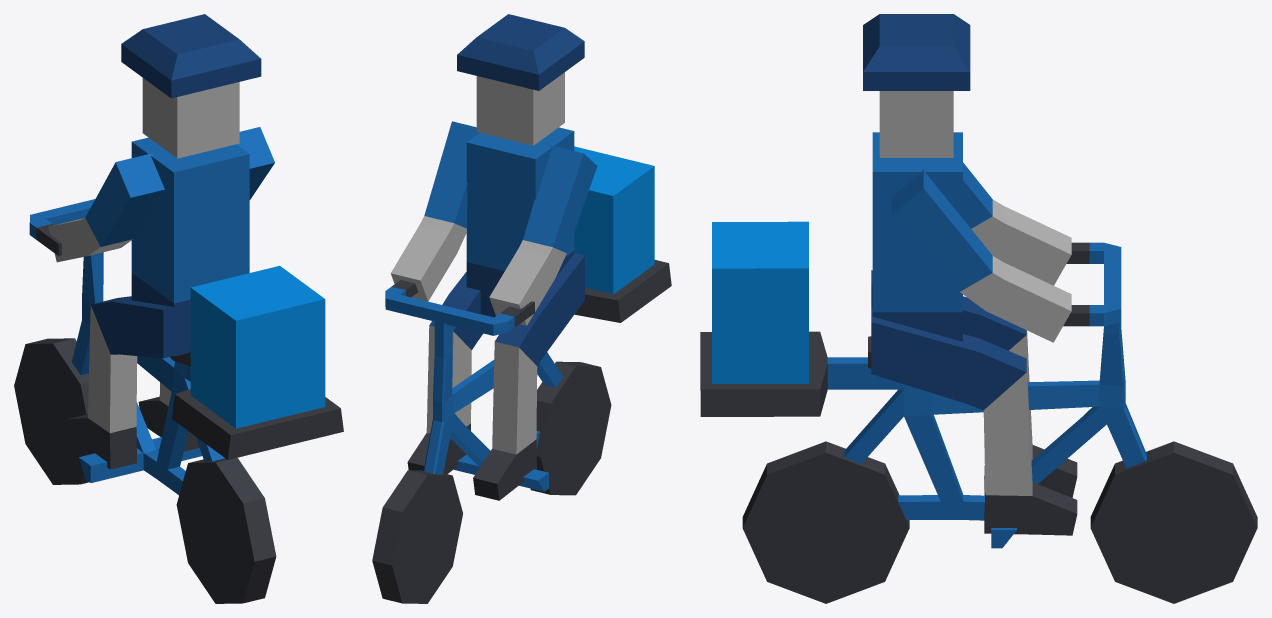
Rendered from DeliveryBike.fbx.
3 views of the same model, side by side, from view 1: azimuth 30°, elevation 25°; view 2: azimuth 150°, elevation 25°; view 3: azimuth 270°, elevation 25° (orthographic). The views are drawn at different scales.
Visible parts, largest first — view 1: Plane; view 2: Plane; view 3: Plane.
Part boxes in pixels (left/top/right/bottom): Plane: left=14, top=14, right=343, bottom=603; Plane: left=372, top=14, right=671, bottom=603; Plane: left=700, top=14, right=1257, bottom=603.
Size of the model in its own units: 40.89 by 143 by 126.
